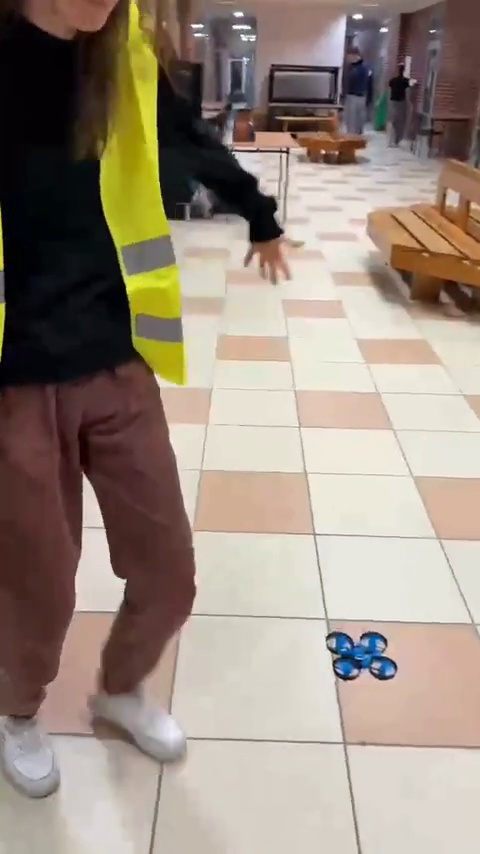drone: (327, 632, 397, 682)
no vest: (332, 47, 377, 159), (383, 59, 423, 152)
vest: (2, 1, 225, 776)
